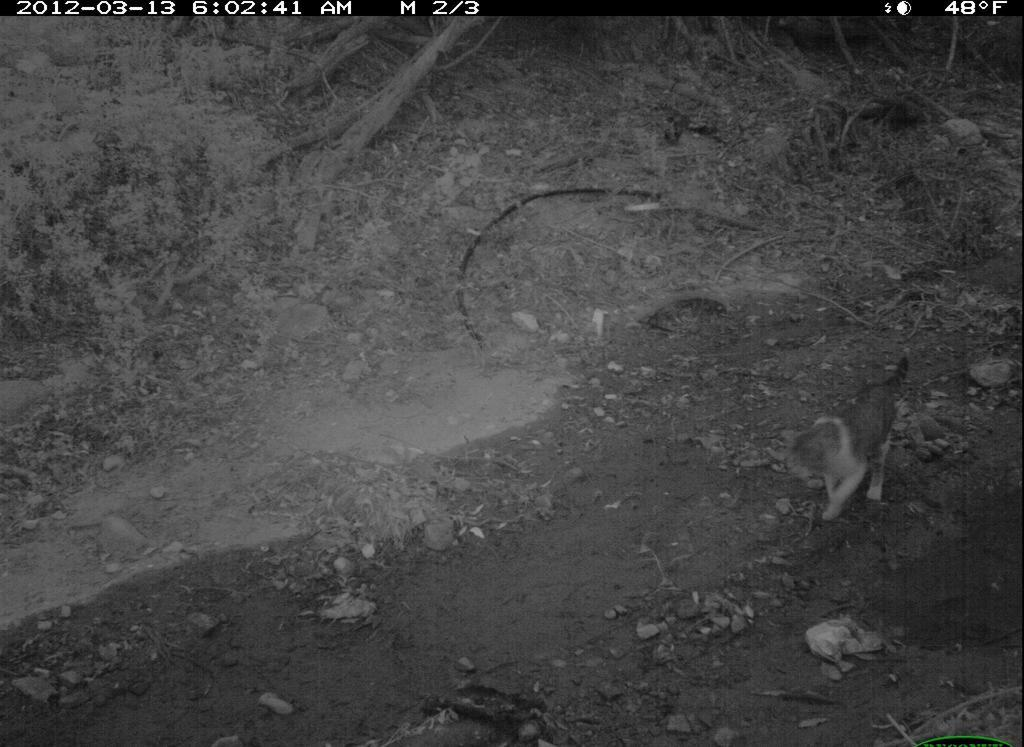cat: (783, 353, 916, 523)
